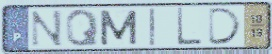D: (206, 6, 244, 46)
I: (148, 7, 157, 47)
L: (175, 6, 203, 47)
M: (98, 9, 139, 47)
N: (29, 9, 65, 48)
Q: (64, 8, 101, 48)
